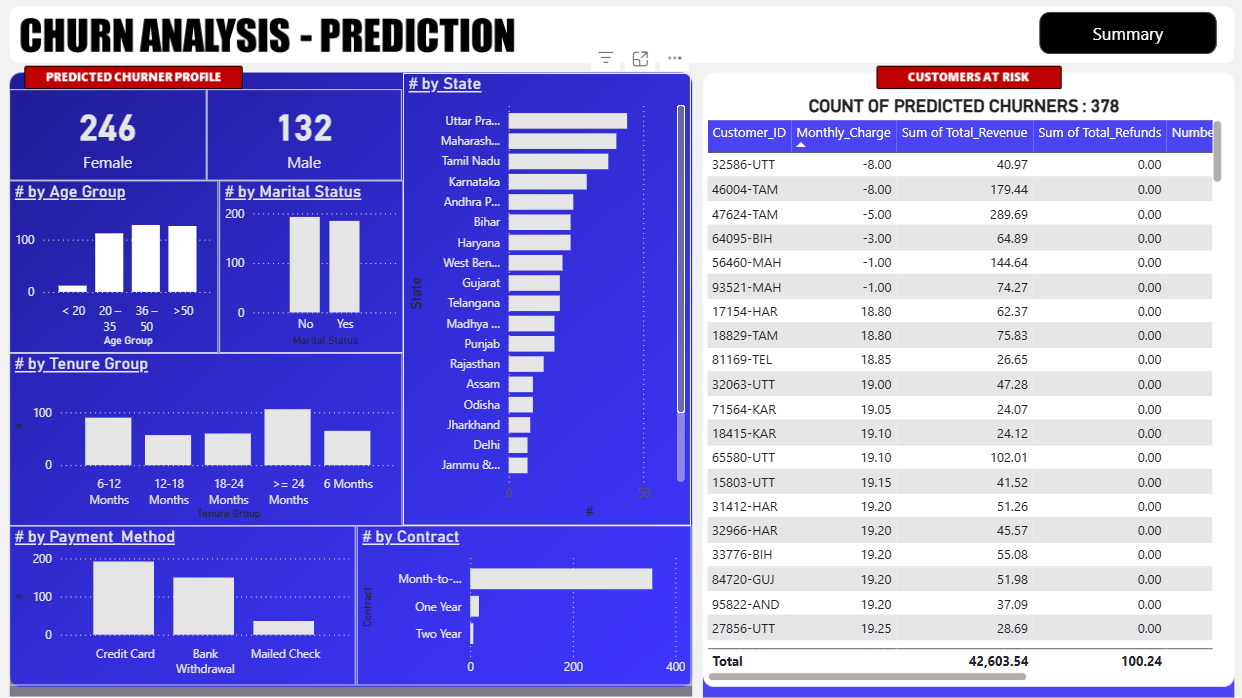

Layout of this report page (visuals, bound fields, positions):
{"tool":"powerbi","page":{"name":"Churn Prediction","canvas":[1280,720],"ordinal":2},"visuals":[{"type":"tableEx","fields":{"Values":["Predictions.Customer_ID","Predictions.Monthly_Charge","Sum(Predictions.Total_Revenue)","Sum(Predictions.Total_Refunds)","Predictions.Number_of_Referrals","Sum(Predictions.Customer_Status_Predicted)"]},"box":[722.1,120.6,538.2,585.3],"z":0},{"type":"card","fields":{"Values":["tbl_Measures.Title Predicted Churners"]},"box":[722.1,85.3,538.2,50],"z":1000},{"type":"card","fields":{"Values":["tbl_Measures.Count Predicted Churner"]},"box":[11.5,93.6,202.6,93.6],"z":1001},{"type":"card","fields":{"Values":["tbl_Measures.Count Predicted Churner"]},"box":[214.1,93.6,200,93.6],"z":1002},{"type":"clusteredColumnChart","fields":{"Category":["Mapping_Agegrp.Age Group"],"Y":["CountNonNull(Predictions.Customer_ID)"]},"box":[11.8,186.8,214.7,176.5],"z":1003},{"type":"clusteredColumnChart","fields":{"Category":["Predictions.Married"],"Y":["CountNonNull(Predictions.Customer_ID)"]},"box":[226.5,187.1,188.6,176.5],"z":1004},{"type":"clusteredColumnChart","fields":{"Category":["Mapping_Tenuregrp.Tenure Group"],"Y":["CountNonNull(Predictions.Customer_ID)"]},"box":[12.1,363.6,403,177.3],"z":1005},{"type":"clusteredColumnChart","fields":{"Category":["Predictions.Payment_Method"],"Y":["CountNonNull(Predictions.Customer_ID)"]},"box":[12.1,540.9,355.3,164.4],"z":1006},{"type":"clusteredBarChart","fields":{"Category":["Predictions.Contract"],"Y":["CountNonNull(Predictions.Customer_ID)"]},"box":[367.4,540.9,343.2,164.4],"z":1007},{"type":"clusteredBarChart","fields":{"Y":["CountNonNull(Predictions.Customer_ID)"],"Category":["Predictions.State"]},"box":[415.2,77.3,295.5,463.6],"z":1008},{"type":"shape","box":[1067.9,14.1,182.1,43.6],"z":1009}]}

Visuals, with their boxes in screenshot pixels (x1, y1, x2, y2), scaled from the page's 1280x720 canvas onto the 1242x698 screenshot:
tableEx - Predictions.Customer_ID x Predictions.Monthly_Charge: l=701, t=117, r=1223, b=684
card - tbl_Measures.Title Predicted Churners: l=701, t=83, r=1223, b=131
card - tbl_Measures.Count Predicted Churner: l=11, t=91, r=208, b=181
card - tbl_Measures.Count Predicted Churner: l=208, t=91, r=402, b=181
clusteredColumnChart - Mapping_Agegrp.Age Group x CountNonNull(Predictions.Customer_ID): l=11, t=181, r=220, b=352
clusteredColumnChart - Predictions.Married x CountNonNull(Predictions.Customer_ID): l=220, t=181, r=403, b=352
clusteredColumnChart - Mapping_Tenuregrp.Tenure Group x CountNonNull(Predictions.Customer_ID): l=12, t=352, r=403, b=524
clusteredColumnChart - Predictions.Payment_Method x CountNonNull(Predictions.Customer_ID): l=12, t=524, r=356, b=684
clusteredBarChart - Predictions.Contract x CountNonNull(Predictions.Customer_ID): l=356, t=524, r=690, b=684
clusteredBarChart - CountNonNull(Predictions.Customer_ID) x Predictions.State: l=403, t=75, r=690, b=524
shape: l=1036, t=14, r=1213, b=56
